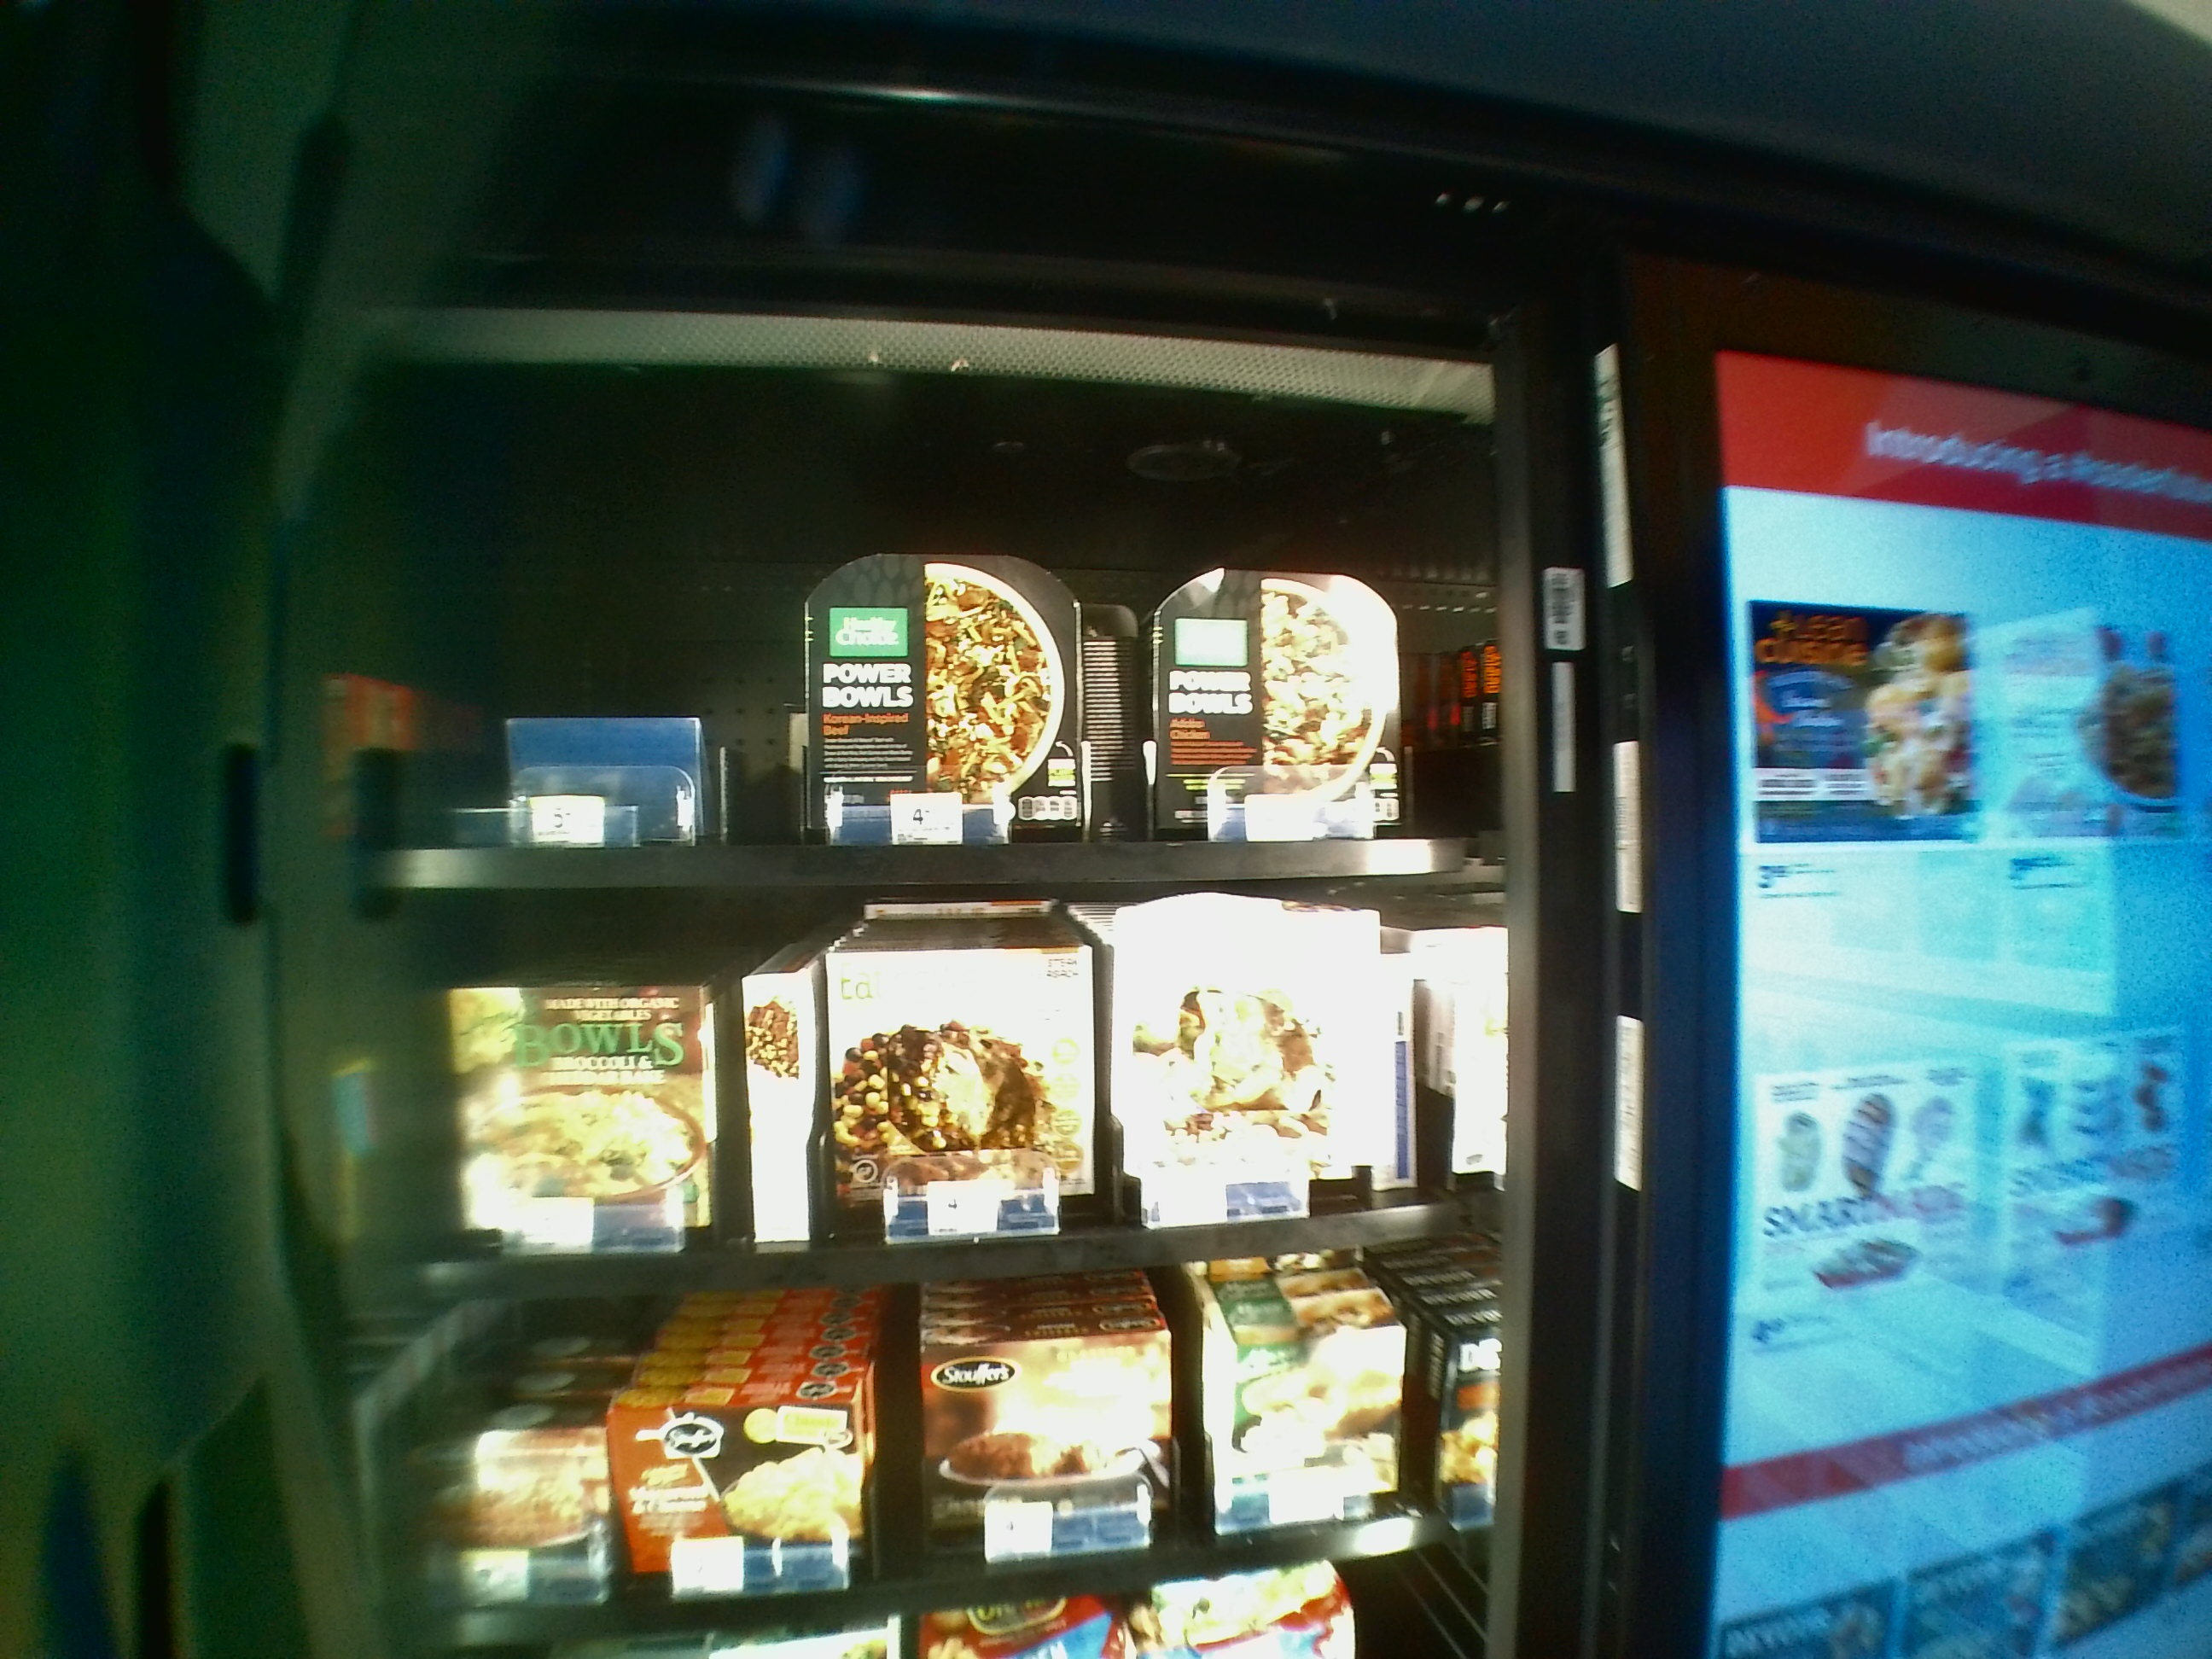shelf: (354, 415, 1489, 892), (350, 899, 1501, 1297)
